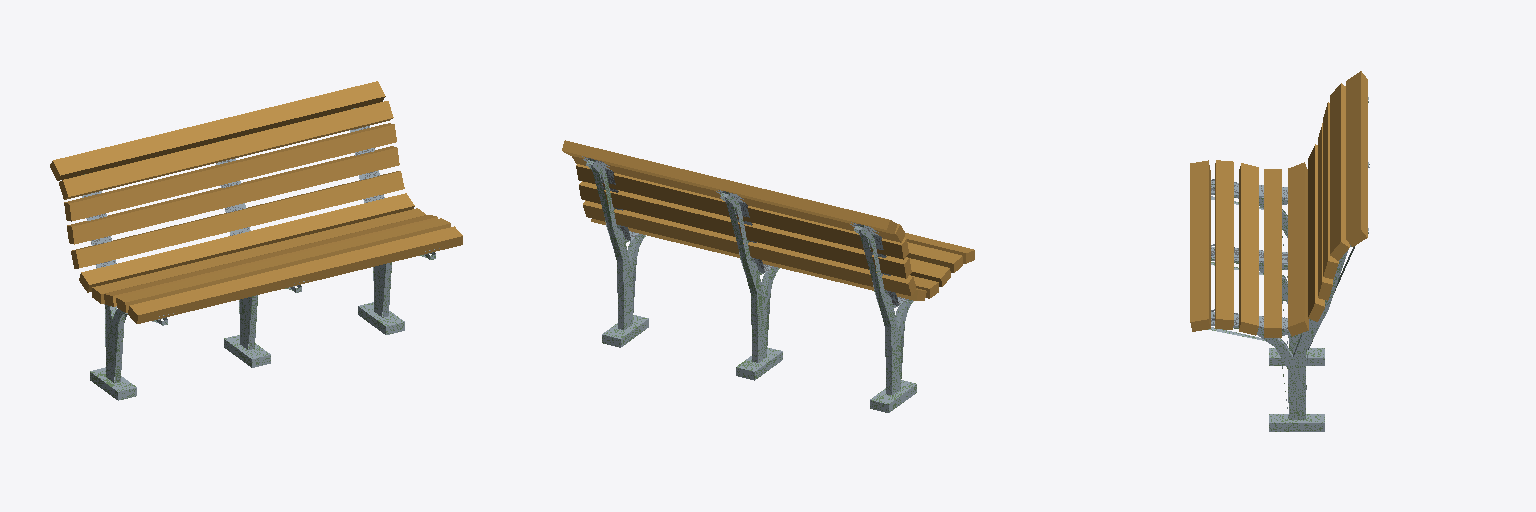
Rendered from banco_2K.obj.
3 renders of one model, left to right at view 1: azimuth 30°, elevation 25°; view 2: azimuth 150°, elevation 25°; view 3: azimuth 270°, elevation 25°, orthographic.
Visible parts, largest first — view 1: banco_2K; view 2: banco_2K; view 3: banco_2K.
Boxes of the visible parts, box(x1,y1,x2,y2) form: banco_2K: box(50, 81, 462, 400); banco_2K: box(562, 140, 974, 412); banco_2K: box(1190, 71, 1369, 431).
Bounding box in the file's own units: 1.62 × 1 × 0.7719.